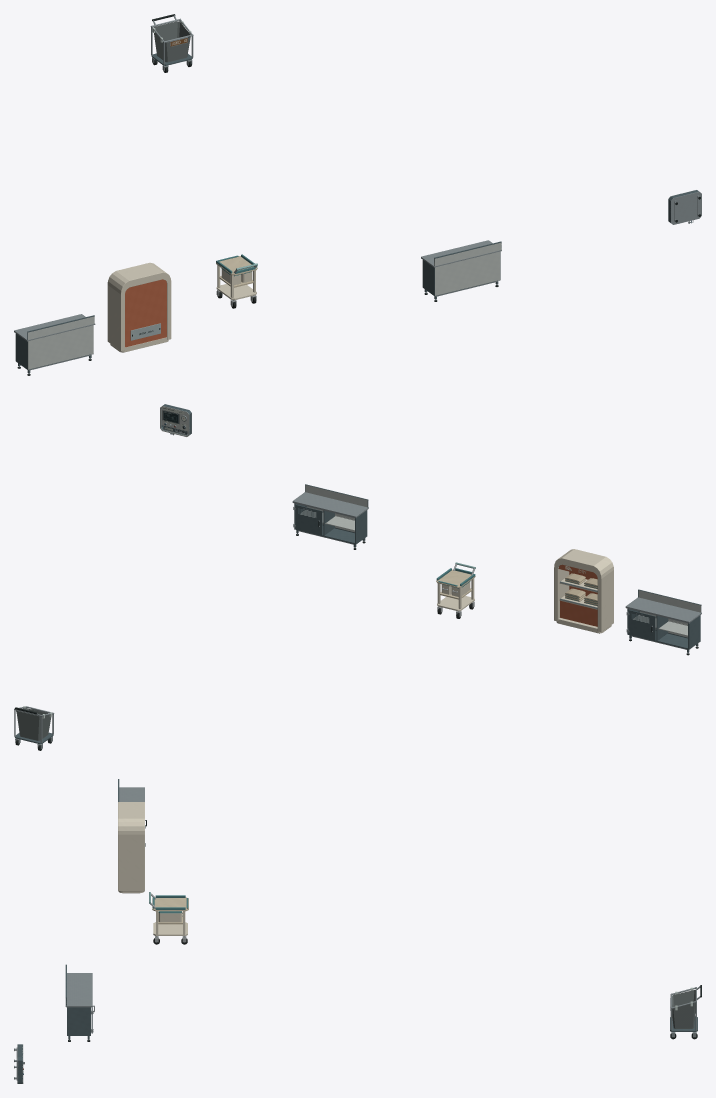
The model's file is AST-STF-G3-043.glb.
3 renders of one model, top to bottom at view 1: azimuth 30°, elevation 25°; view 2: azimuth 150°, elevation 25°; view 3: azimuth 270°, elevation 25°, orthographic. The views are drawn at different scales.
Visible parts, largest first — view 1: CleanDryLinenNiche__AST-AQU-007__fixed__ivory_enamel, MaintenanceWorkCabinet__AST-STF-007_static_staff_white_paint, CleanWorkCabinet__AST-STF-007_static_staff_white_paint, CleanDryLinenNiche__AST-AQU-007__fixed__aquatic_clay_sling, UsedOnlyCarrierParking__AST-HSK-004__handling_canvas, CleanSupplyTrolleyParking__AST-MED-004__ivory_enamel, MaintenanceConsole__AST-ENG-003_static_staff_zinc, MaintenanceWorkCabinet__AST-STF-007_static_staff_bluegrey_pa, CleanWorkCabinet__AST-STF-007_static_staff_zinc, MaintenanceWorkCabinet__AST-STF-007_static_staff_zinc, CleanWorkCabinet__AST-STF-007_static_staff_bluegrey_paint; view 2: CleanDryLinenNiche__AST-AQU-007__fixed__ivory_enamel, CleanWorkCabinet__AST-STF-007_static_staff_bluegrey_paint, MaintenanceWorkCabinet__AST-STF-007_static_staff_bluegrey_pa, CleanWorkCabinet__AST-STF-007_static_staff_zinc, MaintenanceWorkCabinet__AST-STF-007_static_staff_zinc, CleanDryLinenNiche__AST-AQU-007__fixed__aquatic_clay_sling, MaintenanceWorkCabinet__AST-STF-007_static_staff_white_paint, CleanWorkCabinet__AST-STF-007_static_staff_white_paint, UsedOnlyCarrierParking__AST-HSK-004__handling_canvas, CleanSupplyTrolleyParking__AST-MED-004__ivory_enamel, CleanWorkCabinet__AST-STF-007_door_leaf_staff_bluegrey_pain, MaintenanceWorkCabinet__AST-STF-007_door_leaf_staff_bluegrey (+1 smaller); view 3: CleanDryLinenNiche__AST-AQU-007__fixed__ivory_enamel, MaintenanceWorkCabinet__AST-STF-007_static_staff_zinc, UsedOnlyCarrierParking__AST-HSK-004__handling_canvas, MaintenanceWorkCabinet__AST-STF-007_static_staff_bluegrey_pa, CleanSupplyTrolleyParking__AST-MED-004__ivory_enamel, CleanSupplyTrolleyParking__AST-MED-004__warm_stone.
Part boxes in pixels (x1,y1,x2,y2): CleanDryLinenNiche__AST-AQU-007__fixed__ivory_enamel: [107, 262, 171, 352]; MaintenanceWorkCabinet__AST-STF-007_static_staff_white_paint: [434, 242, 501, 295]; CleanWorkCabinet__AST-STF-007_static_staff_white_paint: [28, 316, 94, 369]; CleanDryLinenNiche__AST-AQU-007__fixed__aquatic_clay_sling: [125, 279, 166, 347]; UsedOnlyCarrierParking__AST-HSK-004__handling_canvas: [154, 21, 190, 62]; CleanSupplyTrolleyParking__AST-MED-004__ivory_enamel: [216, 265, 256, 300]; MaintenanceConsole__AST-ENG-003_static_staff_zinc: [670, 191, 701, 224]; MaintenanceWorkCabinet__AST-STF-007_static_staff_bluegrey_pa: [422, 241, 501, 299]; CleanWorkCabinet__AST-STF-007_static_staff_zinc: [14, 314, 95, 373]; MaintenanceWorkCabinet__AST-STF-007_static_staff_zinc: [421, 240, 501, 300]; CleanWorkCabinet__AST-STF-007_static_staff_bluegrey_paint: [15, 315, 94, 373]; CleanDryLinenNiche__AST-AQU-007__fixed__ivory_enamel: [554, 549, 613, 633]; CleanWorkCabinet__AST-STF-007_static_staff_bluegrey_paint: [627, 589, 701, 652]; MaintenanceWorkCabinet__AST-STF-007_static_staff_bluegrey_pa: [294, 484, 368, 547]; CleanWorkCabinet__AST-STF-007_static_staff_zinc: [625, 597, 701, 653]; MaintenanceWorkCabinet__AST-STF-007_static_staff_zinc: [292, 492, 368, 548]; CleanDryLinenNiche__AST-AQU-007__fixed__aquatic_clay_sling: [558, 564, 597, 626]; MaintenanceWorkCabinet__AST-STF-007_static_staff_white_paint: [300, 485, 367, 532]; CleanWorkCabinet__AST-STF-007_static_staff_white_paint: [633, 590, 700, 637]; UsedOnlyCarrierParking__AST-HSK-004__handling_canvas: [16, 708, 51, 740]; CleanSupplyTrolleyParking__AST-MED-004__ivory_enamel: [437, 578, 474, 611]; CleanWorkCabinet__AST-STF-007_door_leaf_staff_bluegrey_pain: [628, 610, 655, 640]; MaintenanceWorkCabinet__AST-STF-007_door_leaf_staff_bluegrey: [295, 504, 322, 535]; CleanDryLinenNiche__AST-AQU-007__fixed__ivory_enamel: [118, 802, 144, 893]; MaintenanceWorkCabinet__AST-STF-007_static_staff_zinc: [65, 973, 93, 1040]; UsedOnlyCarrierParking__AST-HSK-004__handling_canvas: [672, 990, 695, 1028]; MaintenanceWorkCabinet__AST-STF-007_static_staff_bluegrey_pa: [65, 964, 90, 1039]; CleanSupplyTrolleyParking__AST-MED-004__ivory_enamel: [153, 911, 187, 935]; CleanSupplyTrolleyParking__AST-MED-004__warm_stone: [152, 897, 188, 924].
Size of the model in its own units: 16.56 by 1.82 by 15.81.
Materials: 30 (30 with a texture image).
